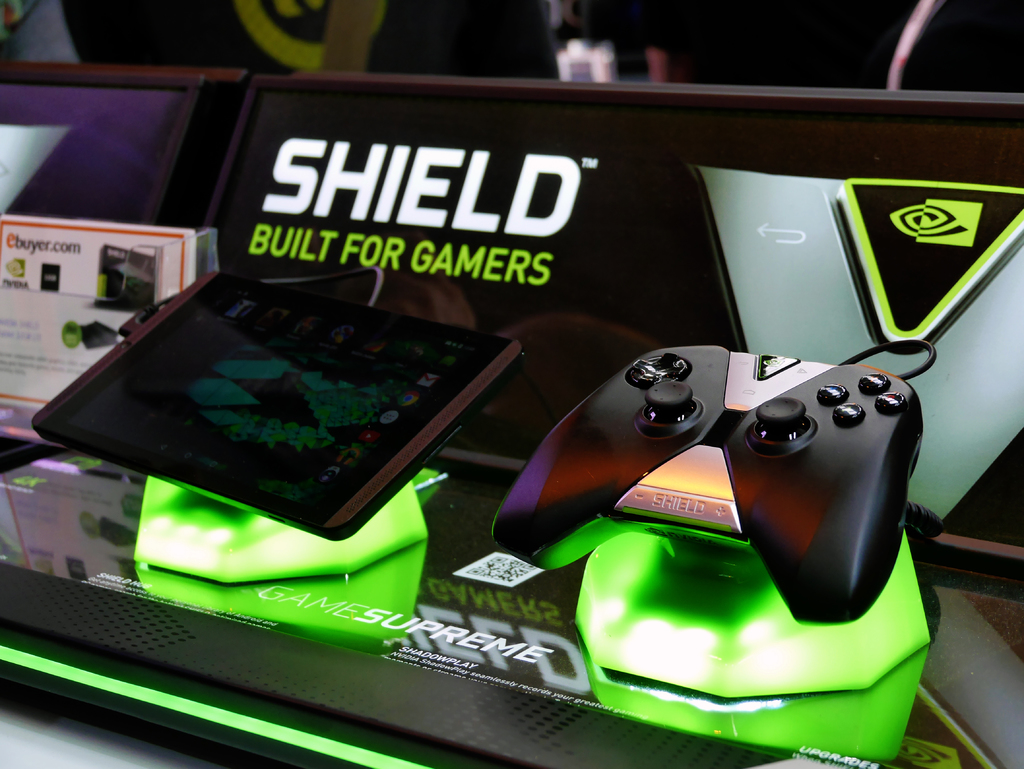person: (363, 0, 562, 79)
